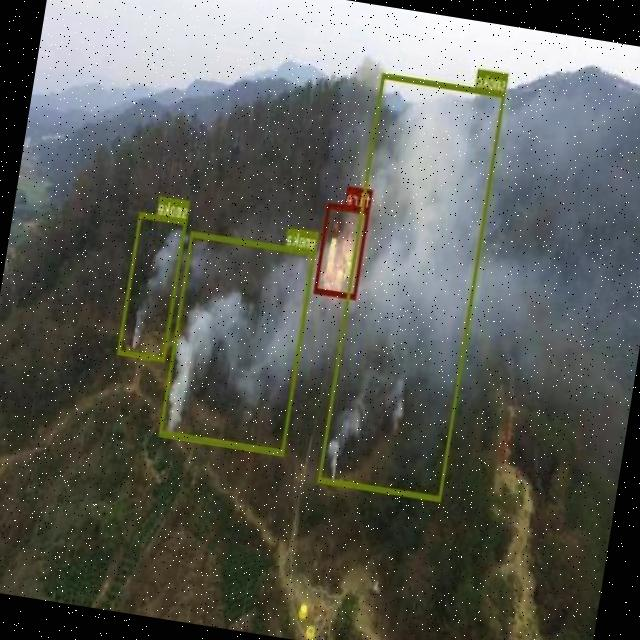fire: (314, 202, 371, 300)
smoke: (318, 72, 507, 501), (160, 230, 316, 456), (118, 212, 188, 362)
